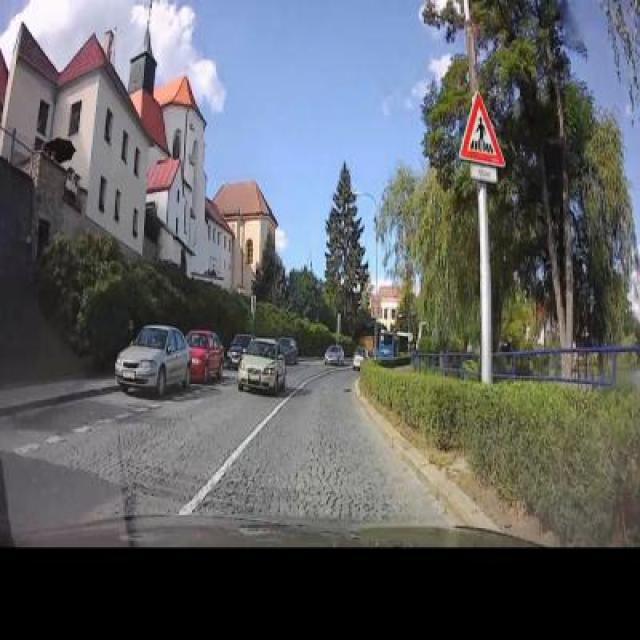clear-road: (194, 361, 452, 528), (58, 374, 284, 515)
